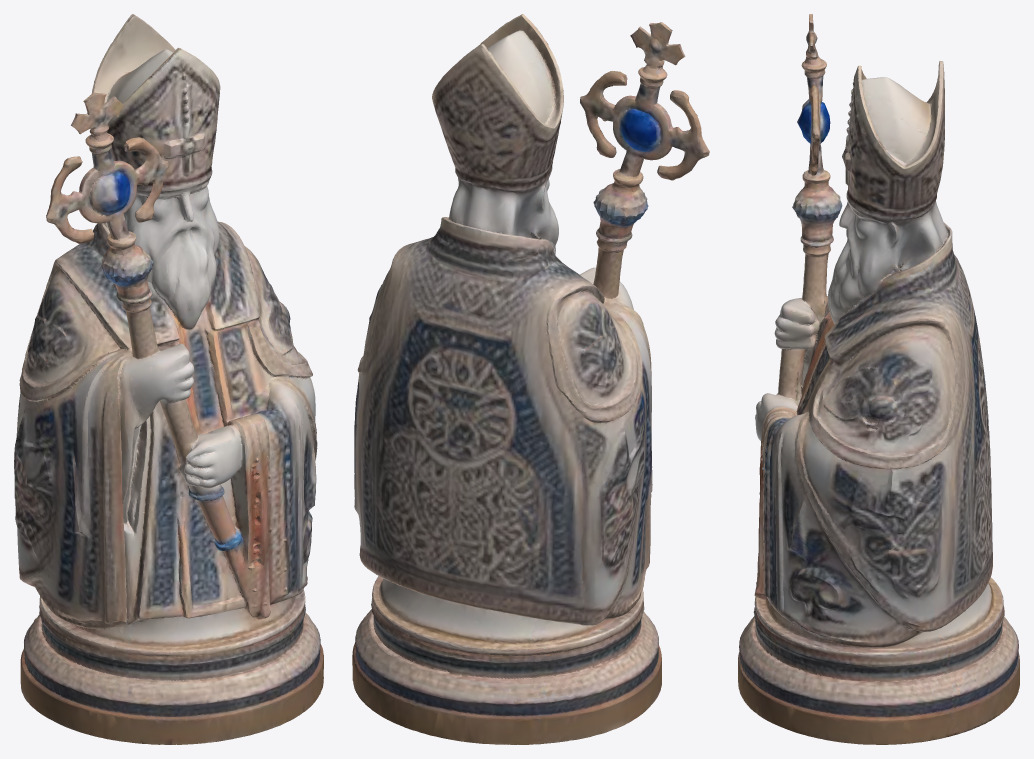
Rendered from bishop_white.glb.
3 renders of one model, left to right at view 1: azimuth 30°, elevation 25°; view 2: azimuth 150°, elevation 25°; view 3: azimuth 270°, elevation 25°, orthographic. The views are drawn at different scales.
Visible parts, largest first — view 1: model; view 2: model; view 3: model.
Boxes of the visible parts, x1,y1,x2,y2 form: model: (14, 14, 323, 744); model: (352, 14, 709, 744); model: (738, 14, 1019, 744).
Bounding box in the file's own units: 0.9049 × 1.9 × 0.7833.
1 material, 1 textured.
